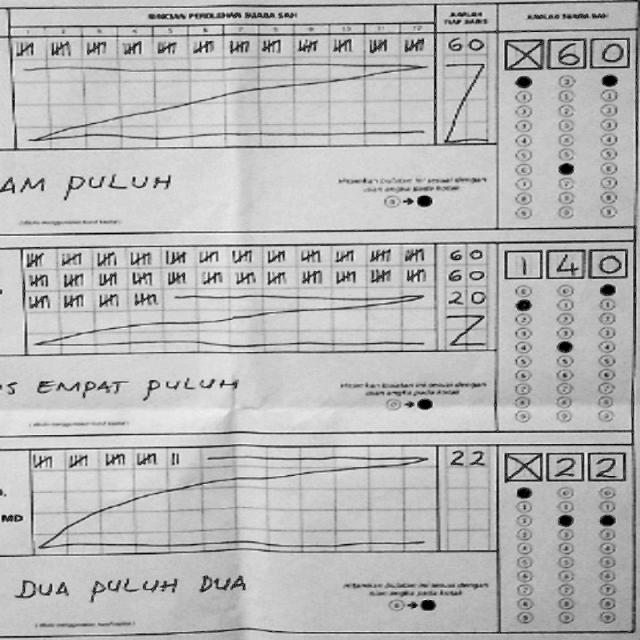Suara: (502, 243, 627, 281), (498, 447, 630, 482), (502, 31, 630, 65)
